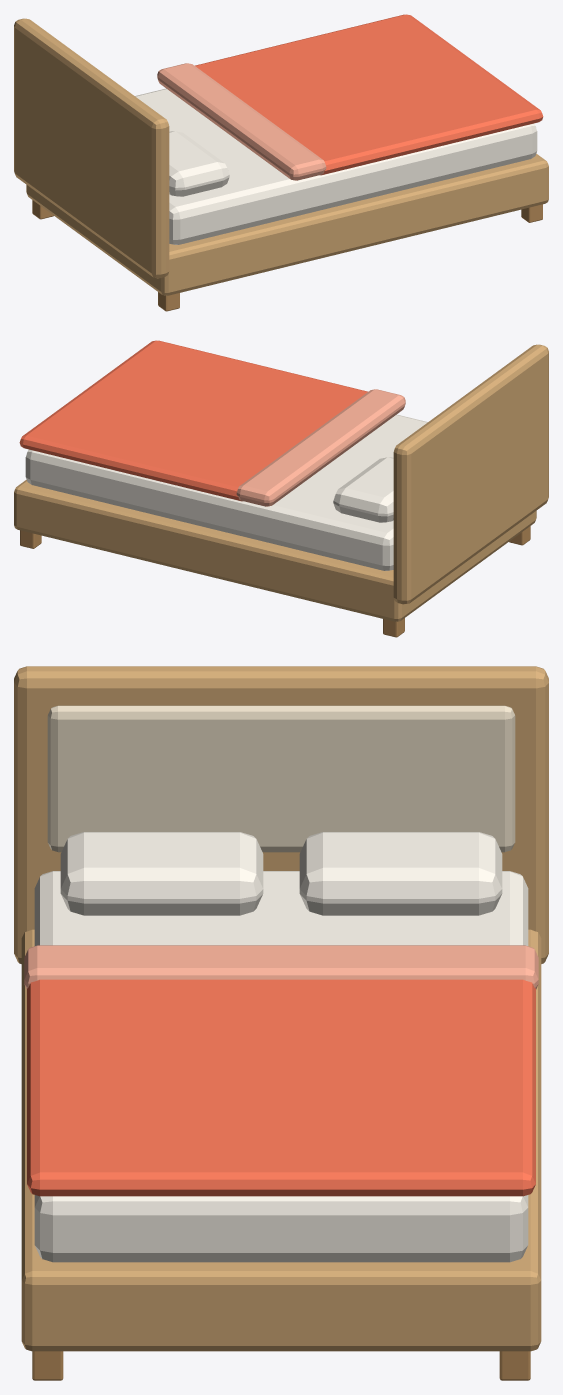
File: bed_modern.glb
The picture shows the model from 3 angles, top to bottom: view 1: azimuth 30°, elevation 25°; view 2: azimuth 150°, elevation 25°; view 3: azimuth 270°, elevation 25°; orthographic projection. The views are drawn at different scales.
Parts seen in each view (by area): view 1: duvet, head, base, mattress, fold, pillow-1; view 2: duvet, head, base, mattress, fold, pillow1; view 3: duvet, headPad, mattress, base, head, fold, pillow-1, pillow1, leg1-1, leg11.
Boxes of the visible parts, x1,y1,x2,y2 form: duvet: [195, 14, 543, 175]; head: [14, 18, 169, 278]; base: [26, 154, 548, 295]; mattress: [135, 88, 537, 244]; fold: [157, 63, 326, 180]; pillow-1: [169, 131, 229, 196]; duvet: [19, 340, 367, 501]; head: [393, 344, 548, 604]; base: [14, 480, 536, 621]; mattress: [25, 414, 427, 570]; fold: [236, 389, 405, 506]; pillow1: [333, 457, 393, 522]; duvet: [27, 979, 535, 1196]; headPad: [47, 705, 515, 852]; mattress: [34, 871, 528, 1262]; base: [21, 929, 541, 1351]; head: [14, 666, 548, 963]; fold: [24, 945, 538, 989]; pillow-1: [60, 832, 263, 915]; pillow1: [299, 832, 502, 915]; leg1-1: [32, 1351, 63, 1380]; leg11: [499, 1351, 530, 1380].
Bounding box in the file's own units: 3.29 × 1.55 × 2.06.
